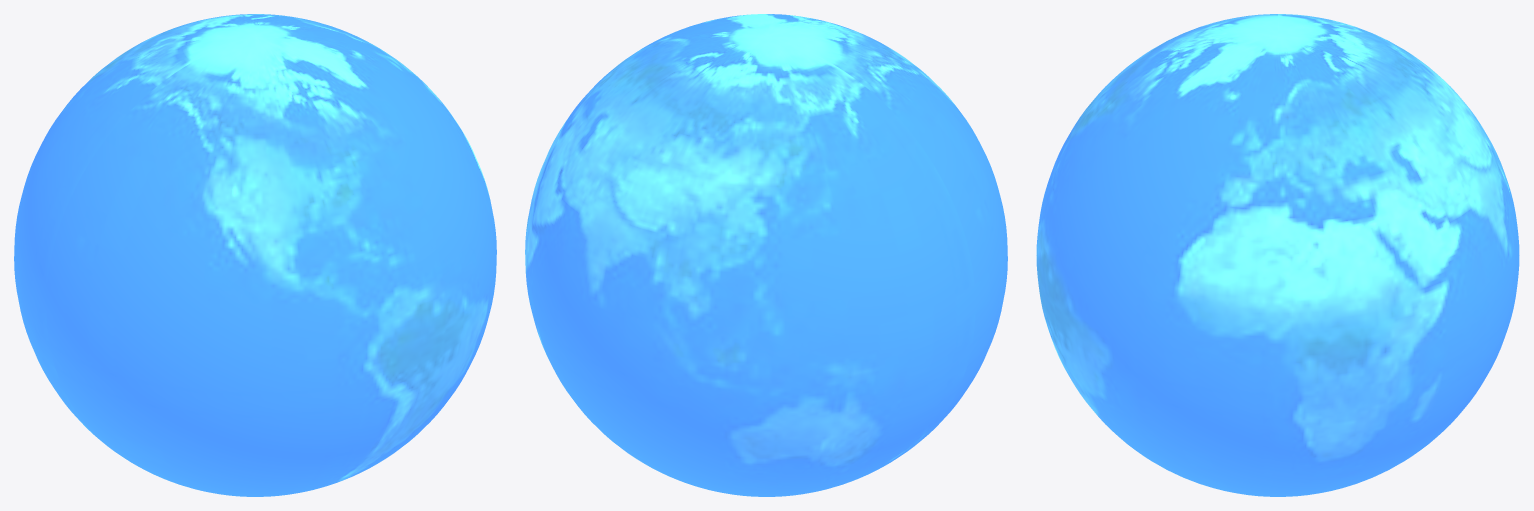
The model's file is earthrotate.gltf.
3 views of the same model, side by side, from view 1: azimuth 30°, elevation 25°; view 2: azimuth 150°, elevation 25°; view 3: azimuth 270°, elevation 25° (orthographic).
Visible parts, largest first — view 1: earthrotation; view 2: earthrotation; view 3: earthrotation.
Boxes of the visible parts, x1=… form: earthrotation: x1=14, y1=14, x2=496, y2=496; earthrotation: x1=525, y1=14, x2=1007, y2=496; earthrotation: x1=1036, y1=14, x2=1519, y2=496.
Bounding box in the file's own units: 6 × 6 × 6.
1 material, 1 textured.
